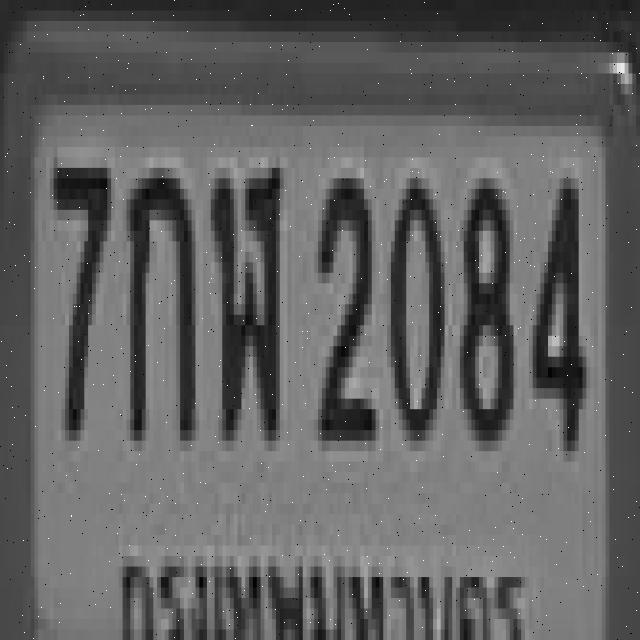0: (387, 168, 441, 430)
10GorGai: (126, 157, 192, 430)
2: (314, 168, 368, 430)
4: (528, 168, 582, 441)
51LorChula: (209, 157, 278, 430)
7: (49, 157, 108, 430)
8: (456, 168, 510, 430)
